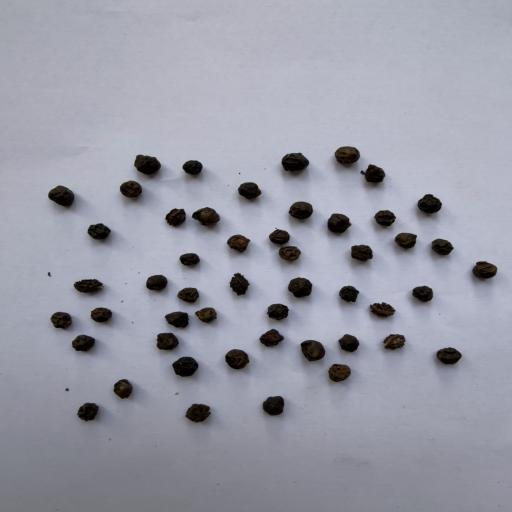Black_pepper: (44, 181, 86, 211), (270, 147, 314, 174), (434, 342, 472, 372), (217, 231, 258, 258), (129, 152, 172, 177), (256, 388, 294, 416), (228, 178, 268, 204), (194, 202, 232, 229), (224, 348, 261, 375), (183, 400, 221, 426), (467, 256, 502, 284), (285, 273, 317, 303), (326, 210, 358, 239), (331, 142, 365, 168), (284, 198, 318, 224), (169, 354, 202, 380), (86, 302, 118, 328), (326, 361, 360, 385), (111, 375, 139, 404), (298, 335, 328, 362), (83, 221, 121, 242), (74, 398, 100, 426), (391, 229, 421, 253), (117, 181, 151, 202), (155, 330, 189, 351), (68, 333, 100, 355), (418, 193, 447, 217), (176, 246, 204, 270), (346, 242, 376, 264), (428, 236, 455, 260), (273, 246, 307, 265), (178, 157, 210, 177), (409, 280, 435, 304), (48, 308, 74, 332), (193, 304, 220, 327), (335, 331, 362, 354), (265, 225, 296, 245), (264, 300, 292, 322), (142, 272, 170, 293), (334, 284, 363, 304), (173, 286, 205, 304), (362, 164, 388, 186), (162, 311, 190, 331), (260, 328, 284, 350), (376, 207, 399, 228)
papaya_seed: (374, 328, 410, 359), (71, 274, 117, 296), (224, 270, 257, 298), (368, 298, 400, 321), (161, 206, 188, 230)
